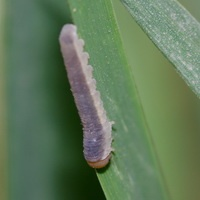insect: (59, 24, 111, 167)
